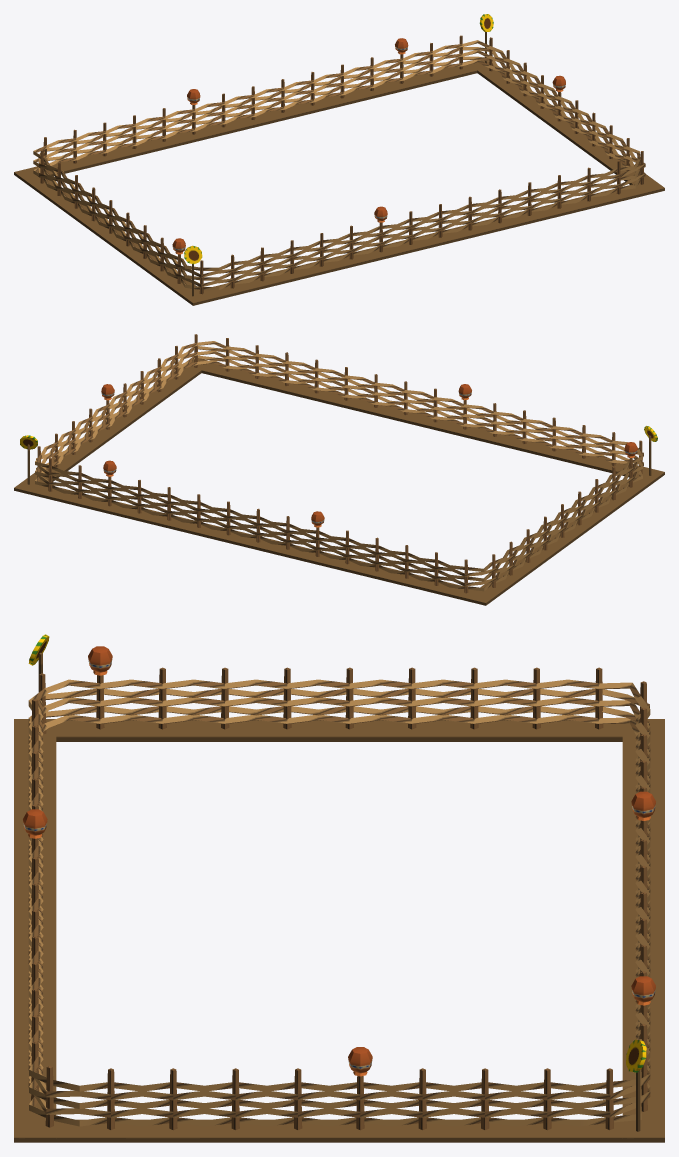
Rendered from Rim_Fence.fbx.
3 renders of one model, top to bottom at view 1: azimuth 30°, elevation 25°; view 2: azimuth 150°, elevation 25°; view 3: azimuth 270°, elevation 25°, orthographic. The views are drawn at different scales.
Parts seen in each view (by area): view 1: Rim_Fence; view 2: Rim_Fence; view 3: Rim_Fence.
Boxes of the visible parts, x1,y1,x2,y2 form: Rim_Fence: (14, 14, 664, 305); Rim_Fence: (14, 334, 664, 605); Rim_Fence: (14, 634, 664, 1142).
Size of the model in its own units: 3.51 by 0.3714 by 2.3.
1 material, 1 textured.
